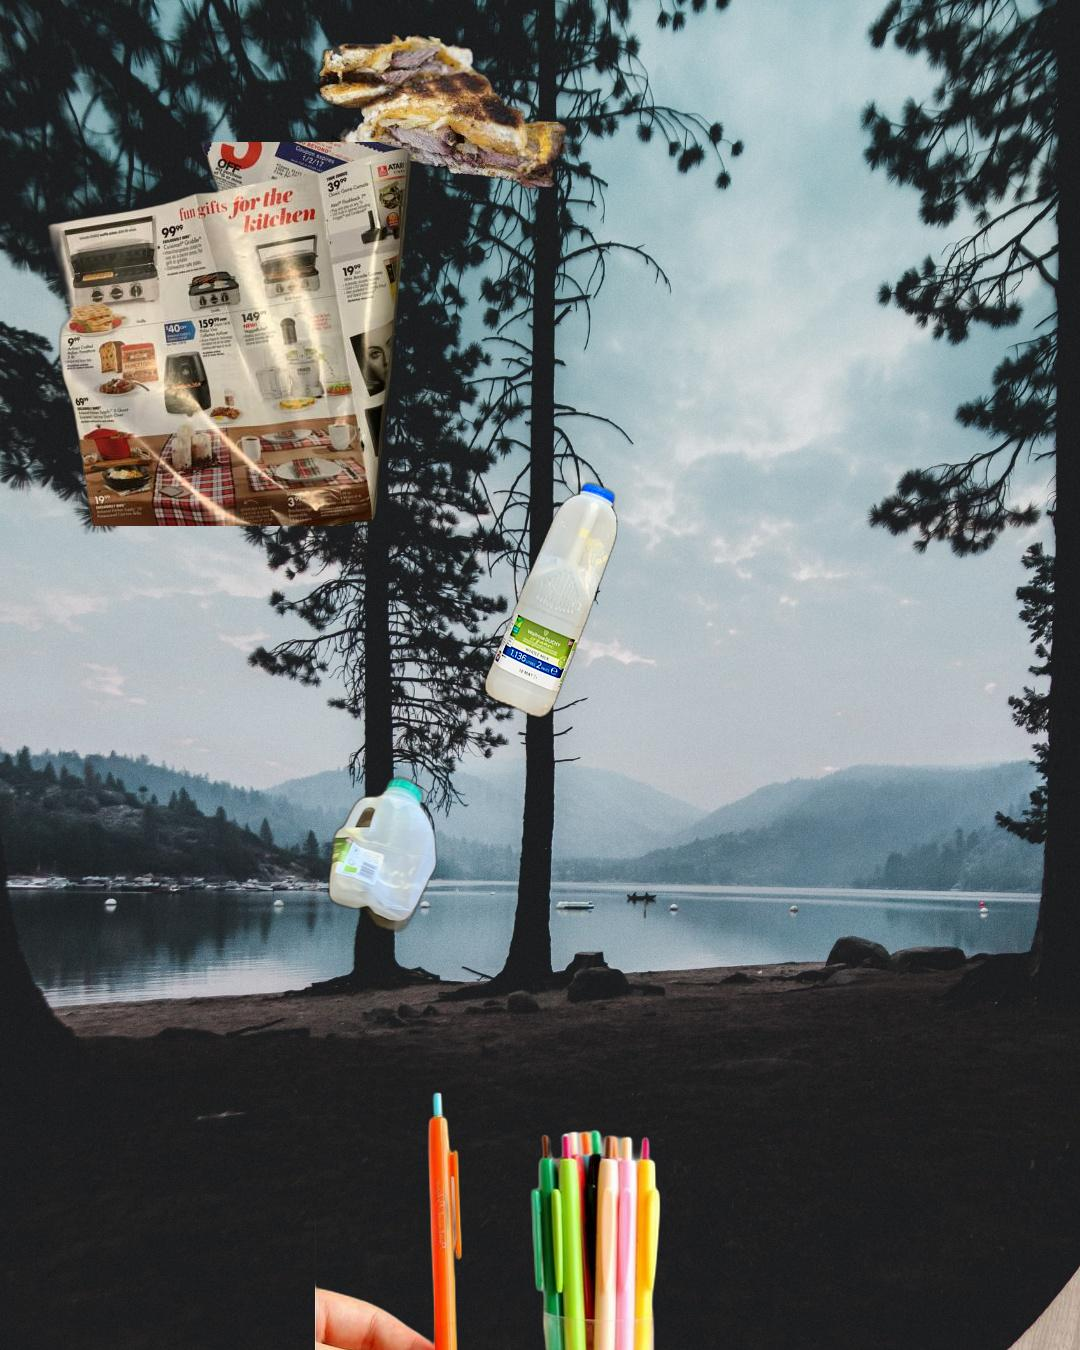biological: (315, 34, 574, 194)
clothes: (992, 1227, 1080, 1350)
paper: (43, 142, 415, 526)
penholder: (315, 1074, 716, 1350)
plastic-bottles: (318, 137, 831, 724), (324, 771, 440, 937)
